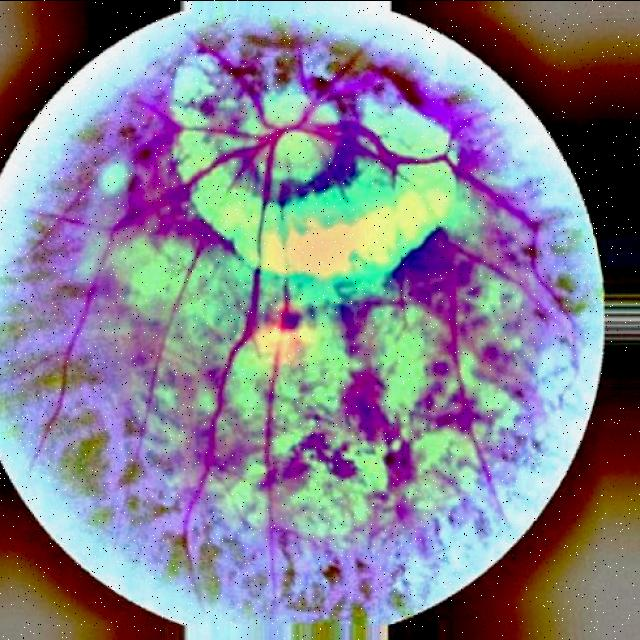Nerves: (300, 122, 549, 240), (201, 135, 274, 471), (103, 144, 258, 240), (195, 44, 300, 127), (117, 91, 267, 141)
Optic Disk: (236, 81, 337, 199)
